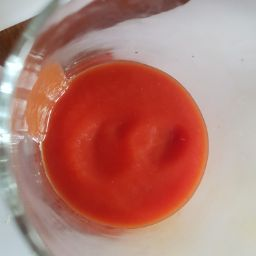Tomato paste: (34, 66, 209, 232), (73, 95, 174, 206)
